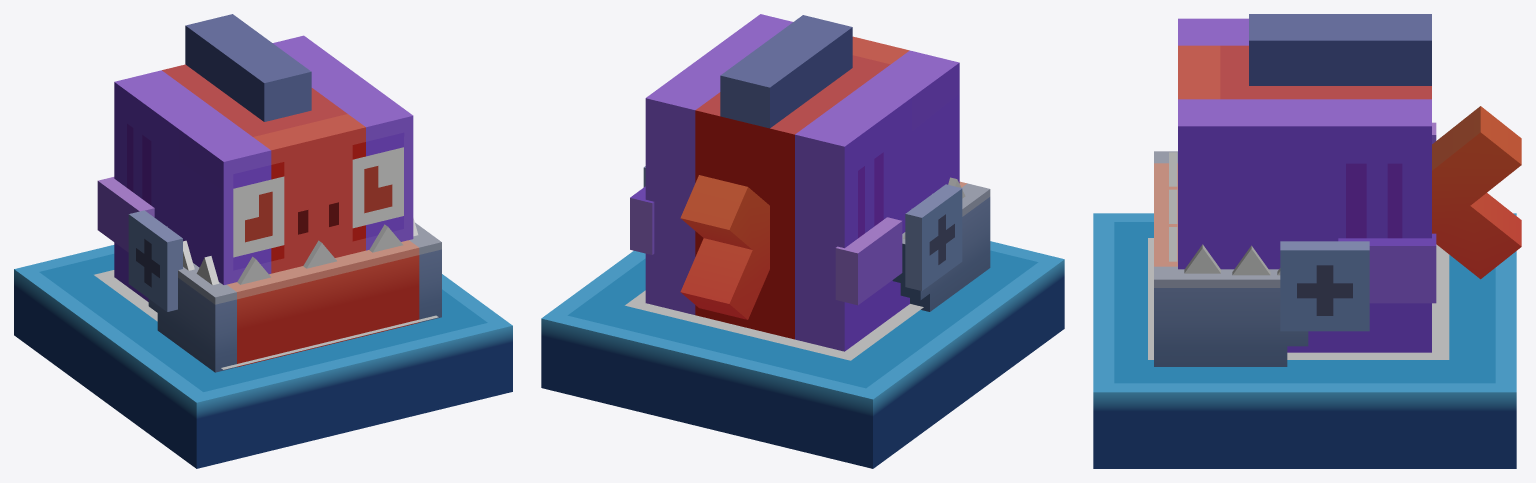
Rendered from Tower_Toes_LVL2.fbx.
3 renders of one model, left to right at view 1: azimuth 30°, elevation 25°; view 2: azimuth 150°, elevation 25°; view 3: azimuth 270°, elevation 25°, orthographic. The views are drawn at different scales.
Parts seen in each view (by area): view 1: Base, Body, Jaw, Fin_03, Screw1, Fin_02, Shadow; view 2: Body, Base, RearFin, Fin_03, Screw1, Jaw, Fin_02, Shadow, Fin_01; view 3: Base, Body, Jaw, Fin_03, RearFin, Screw2, Fin_01, Shadow.
Boxes of the visible parts, bbox=[...] form: Base: bbox=[14, 245, 512, 468]; Body: bbox=[114, 35, 413, 301]; Jaw: bbox=[148, 218, 441, 372]; Fin_03: bbox=[185, 14, 311, 121]; Screw1: bbox=[128, 210, 182, 311]; Fin_02: bbox=[97, 177, 154, 252]; Shadow: bbox=[94, 270, 438, 369]; Body: bbox=[645, 14, 959, 351]; Base: bbox=[541, 241, 1064, 468]; RearFin: bbox=[680, 175, 769, 319]; Fin_03: bbox=[720, 15, 852, 128]; Screw1: bbox=[905, 184, 962, 290]; Jaw: bbox=[892, 177, 990, 311]; Fin_02: bbox=[835, 217, 902, 305]; Shadow: bbox=[625, 290, 923, 360]; Fin_01: bbox=[630, 186, 654, 254]; Base: bbox=[1093, 213, 1516, 468]; Body: bbox=[1178, 18, 1431, 352]; Jaw: bbox=[1154, 151, 1308, 366]; Fin_03: bbox=[1249, 14, 1431, 85]; RearFin: bbox=[1432, 106, 1521, 279]; Screw2: bbox=[1280, 241, 1369, 331]; Fin_01: bbox=[1338, 233, 1436, 303]; Shadow: bbox=[1148, 238, 1449, 359].
Bounding box in the file's own units: 100 × 91.76 × 101.
